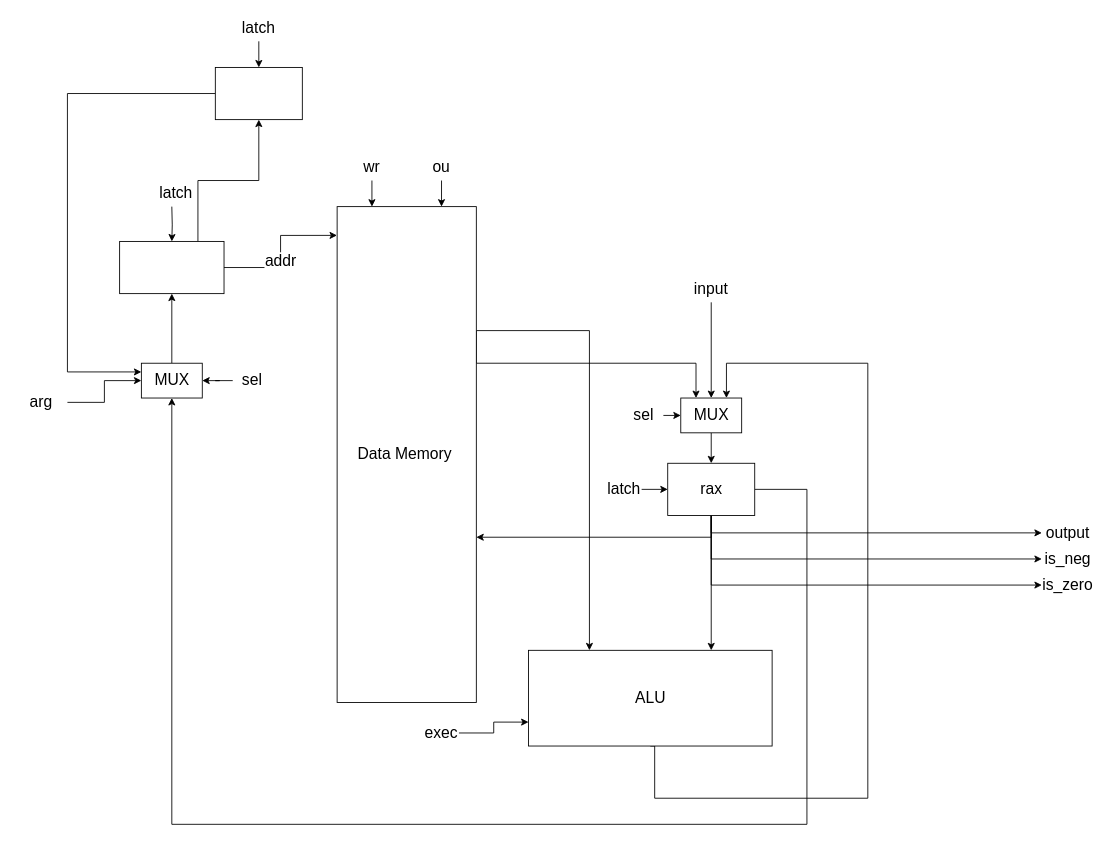
This 1108x847 diagram has some shape labels left out. The shapes that lost their labels are listed below. From the top down, each one's centre as x and y in pixels, then its label:
(258,93): br
(171,267): data_address
